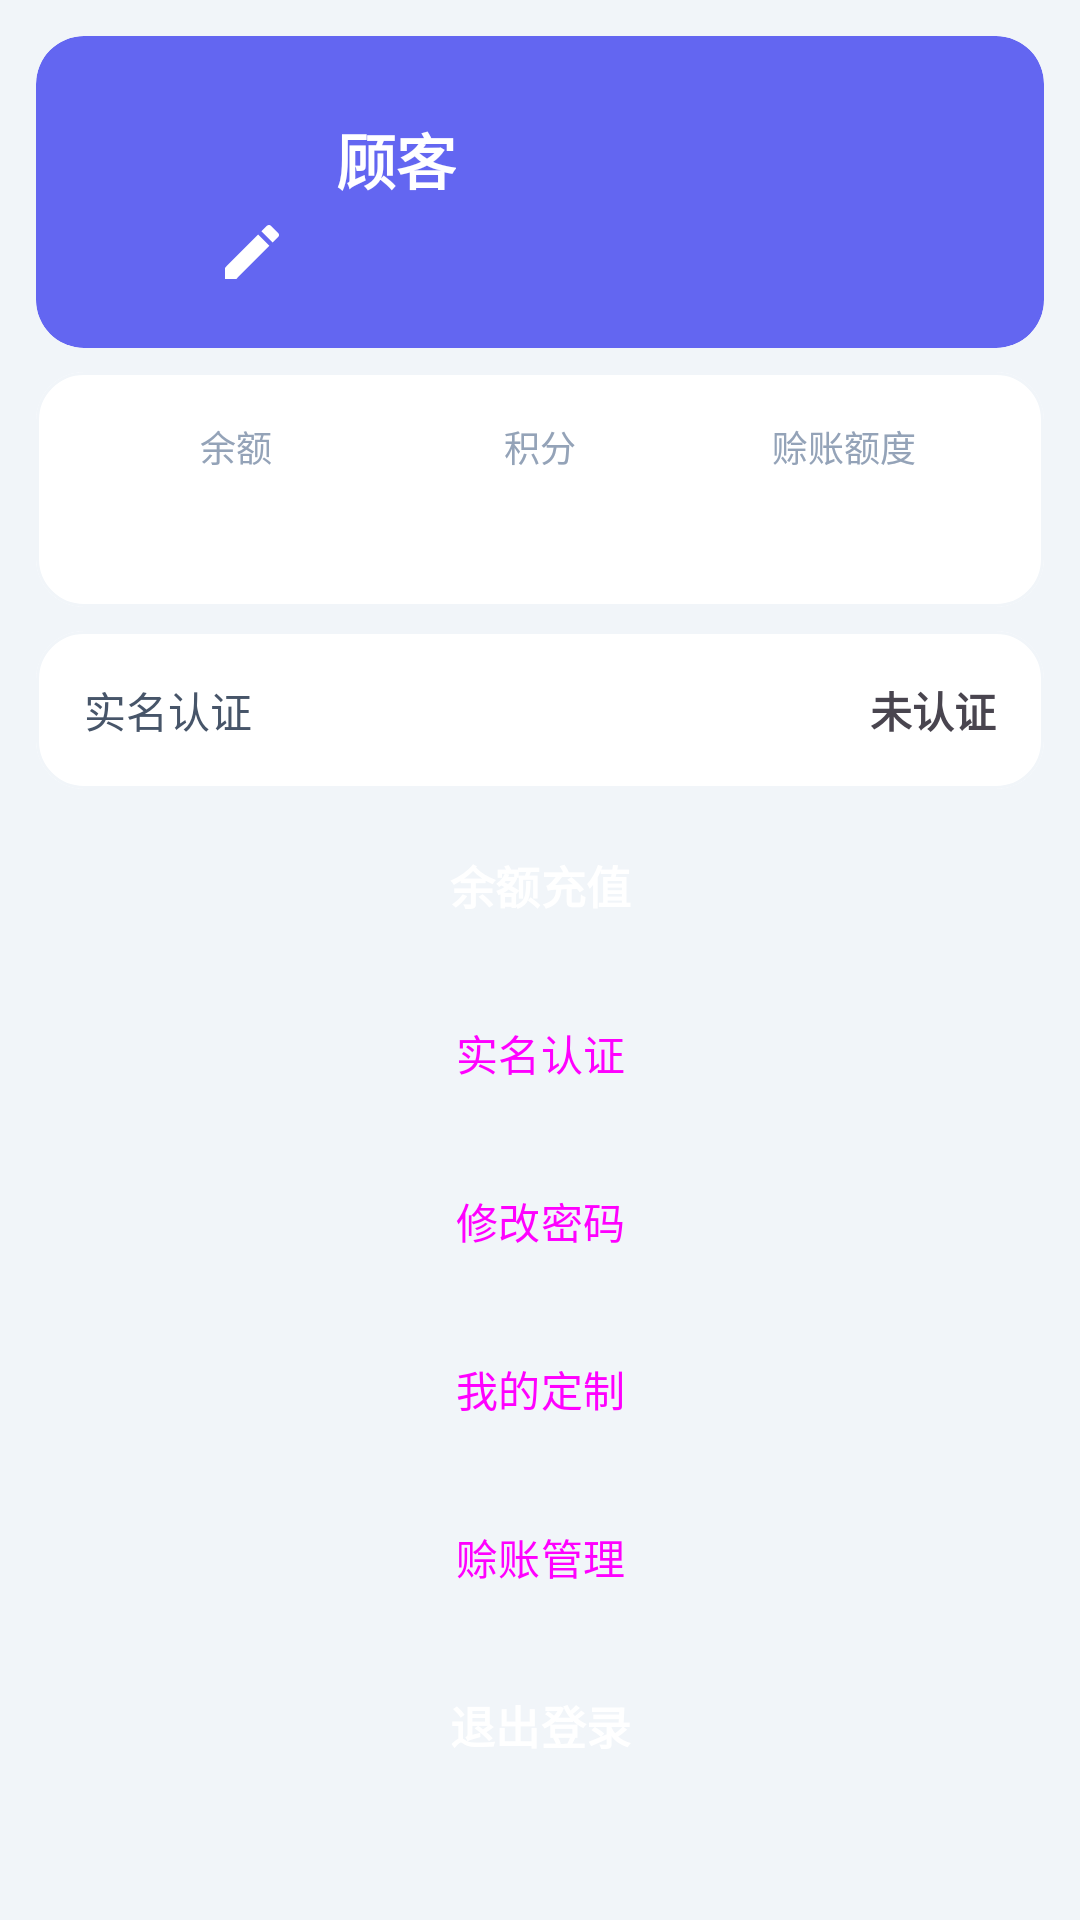

Where icons sit on this 1080×1920 app screen, as (x1, y1, x2, y2):
修改头像: (225, 225, 279, 279)
